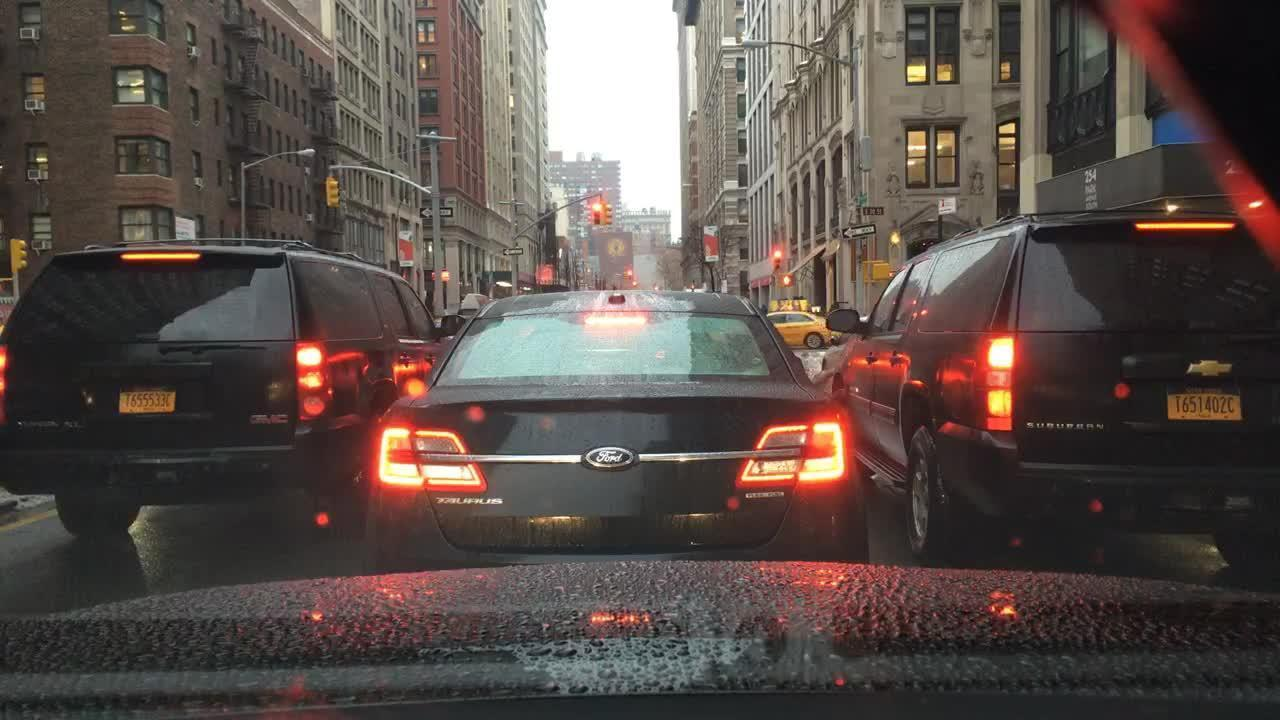chevrolet: (1176, 350, 1246, 386)
ford: (571, 428, 641, 473)
